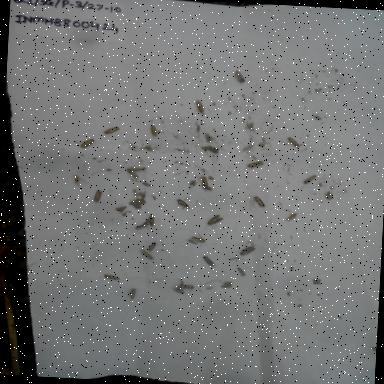pbw: (202, 212, 224, 228), (232, 243, 256, 256), (244, 158, 266, 172), (188, 230, 207, 245), (124, 166, 142, 180), (174, 196, 192, 210), (198, 174, 212, 192), (132, 220, 150, 234), (232, 68, 247, 84), (125, 287, 140, 302), (302, 173, 318, 187), (72, 174, 88, 188), (193, 98, 207, 114), (148, 122, 161, 139), (78, 136, 95, 149), (102, 124, 120, 136), (91, 187, 104, 203), (147, 214, 160, 230), (251, 195, 266, 208), (138, 248, 154, 260), (201, 255, 217, 267), (240, 142, 255, 154), (285, 136, 299, 148), (284, 210, 298, 222), (204, 130, 216, 144), (173, 280, 185, 294), (234, 264, 248, 276), (176, 283, 196, 291), (128, 164, 146, 172), (102, 272, 120, 280), (146, 240, 157, 252), (184, 237, 199, 244), (227, 254, 239, 262)
